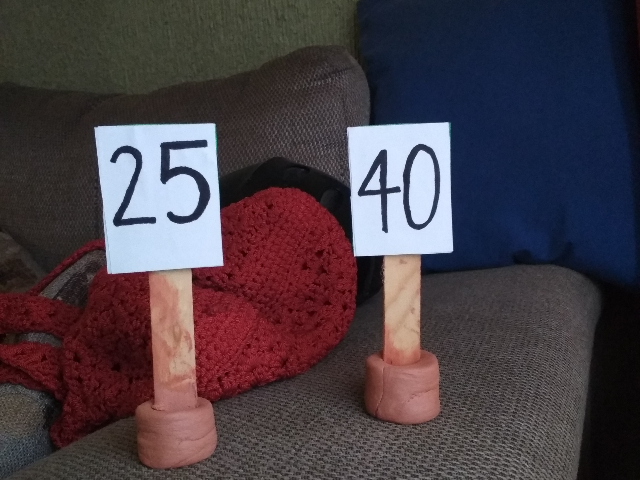Limit 25: (94, 124, 223, 267)
Limit 40: (351, 120, 449, 255)
